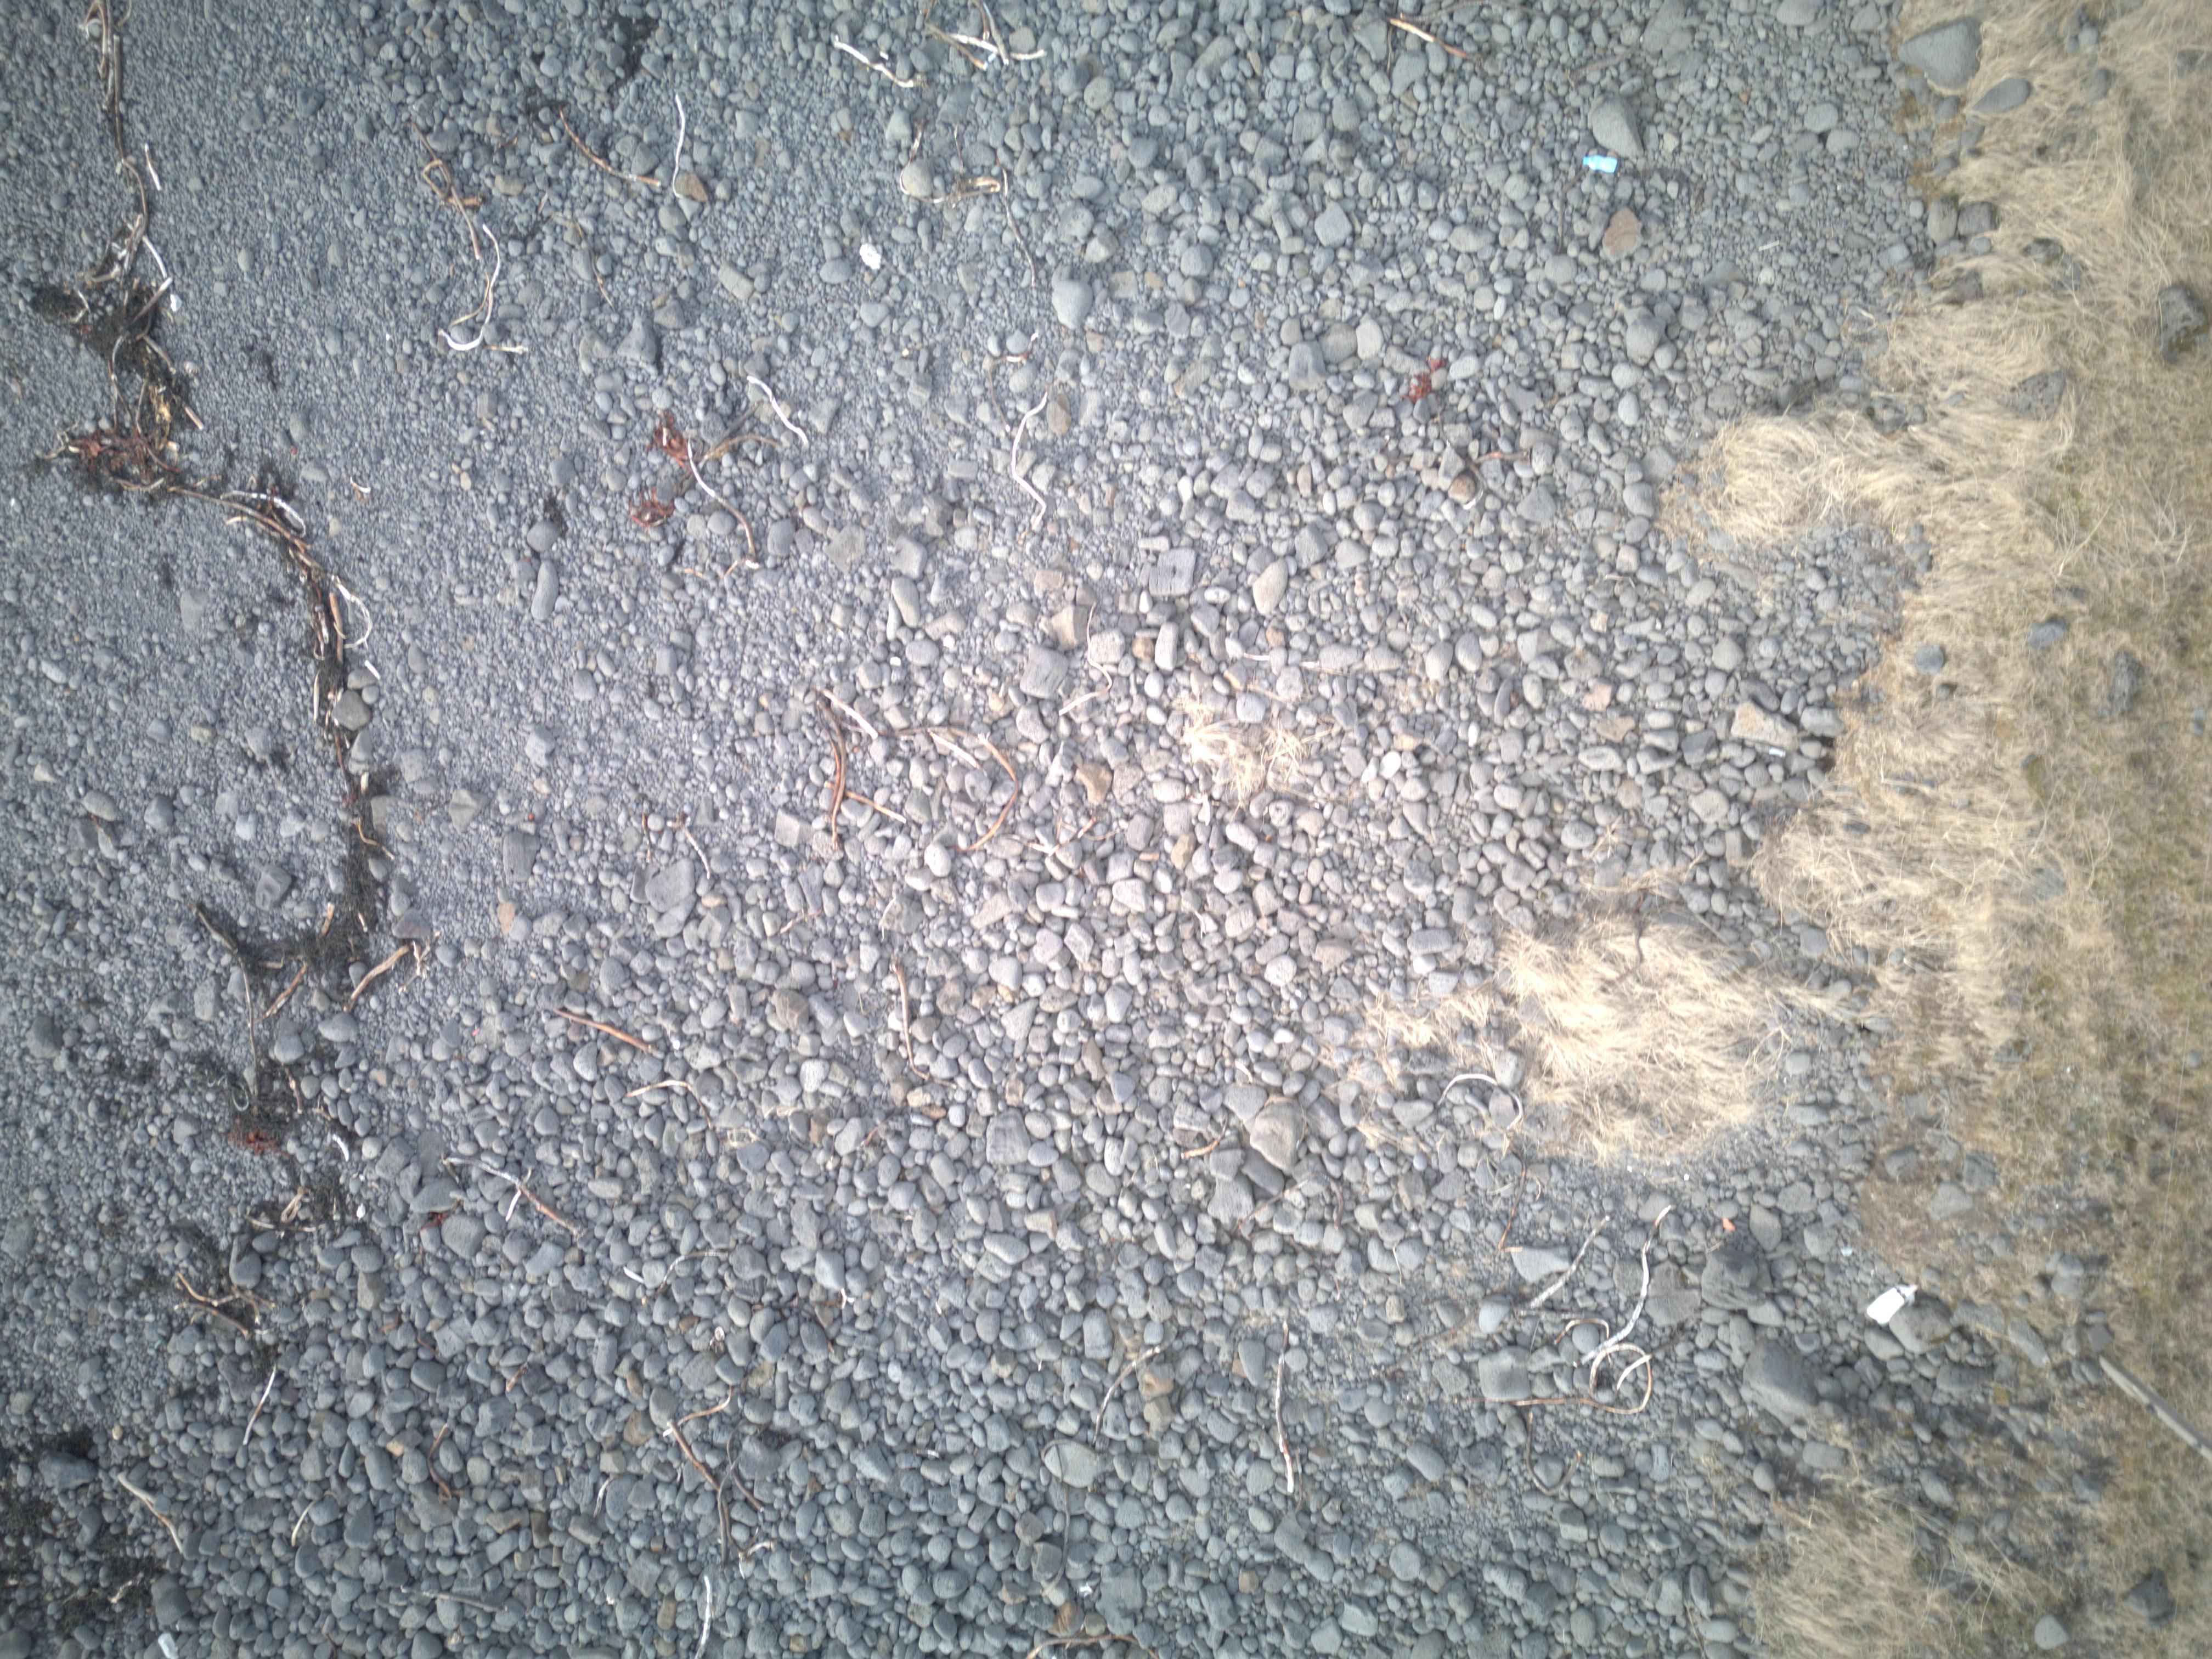trash: (1866, 1283, 1918, 1327), (1581, 151, 1620, 173)
